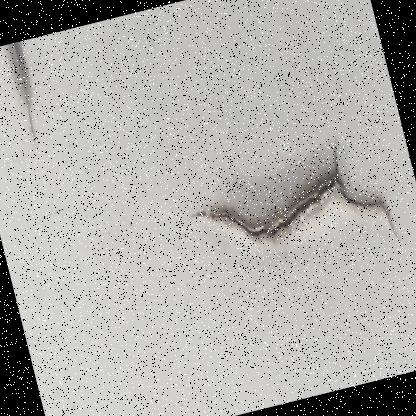Crack: (156, 81, 415, 358), (0, 34, 80, 170)
